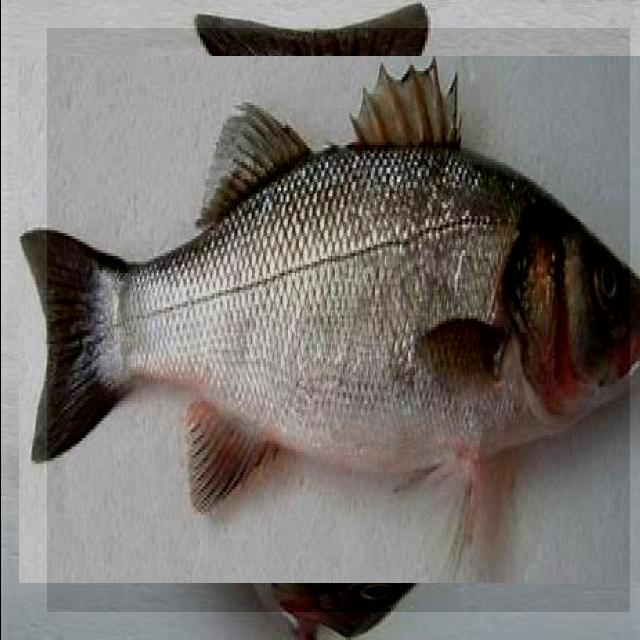Healthy Fish: (46, 28, 629, 612)
